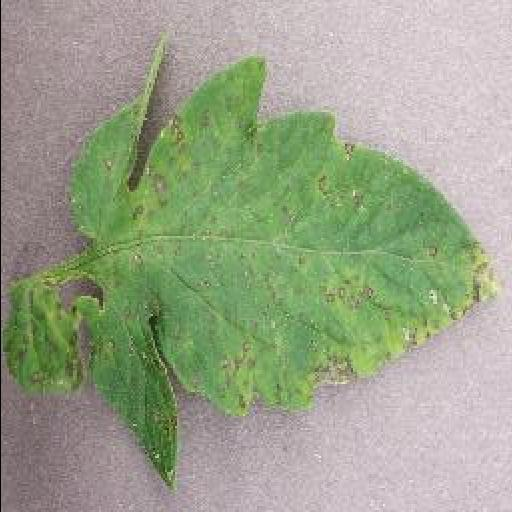disease_tomato: (65, 30, 495, 484)
